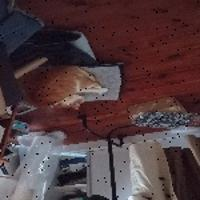asleep: (15, 65, 108, 109)
